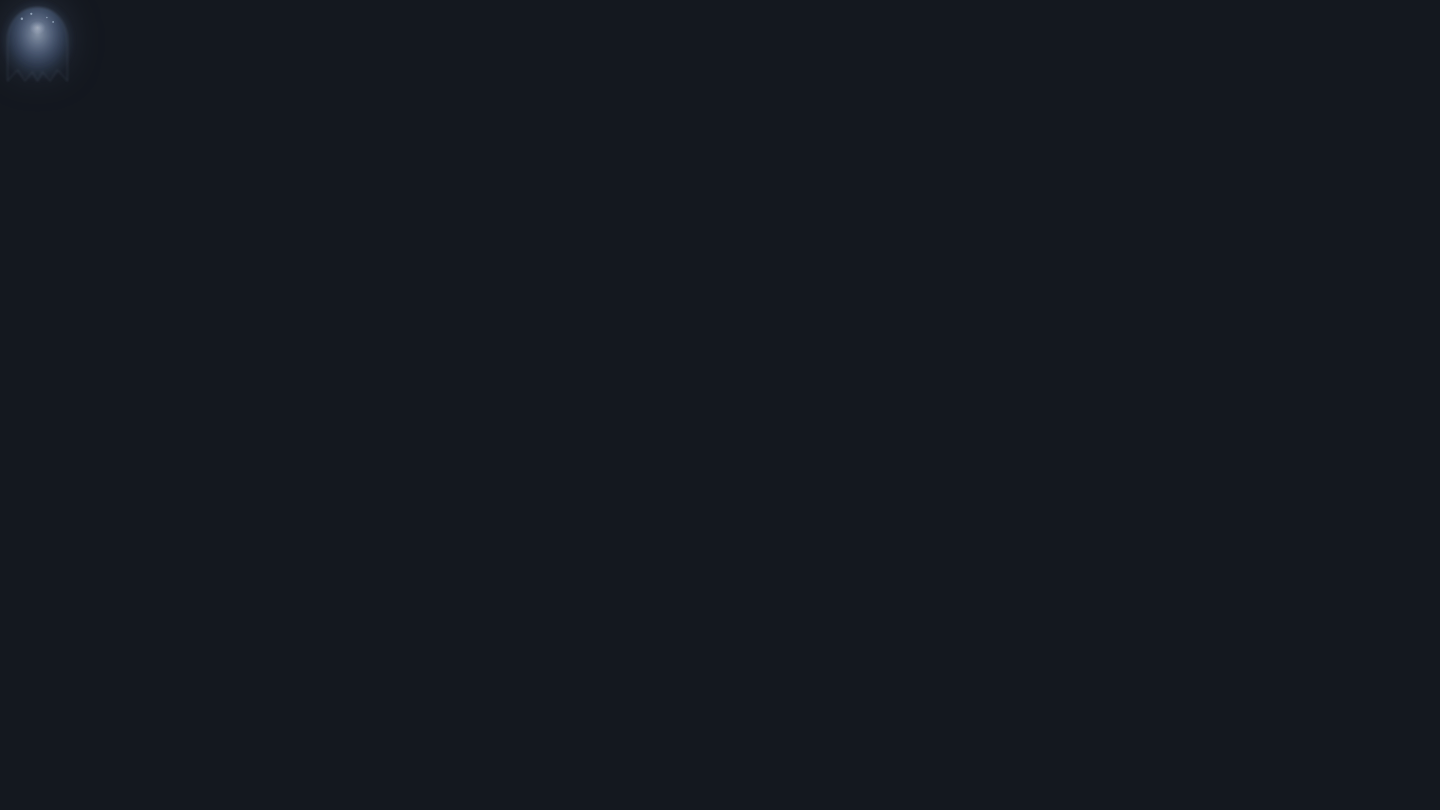
Test: GhostChatbot › opens the chat drawer without crashing
Step 1. Click the button named "open chat" → (38, 47), box [0, 0, 75, 94]
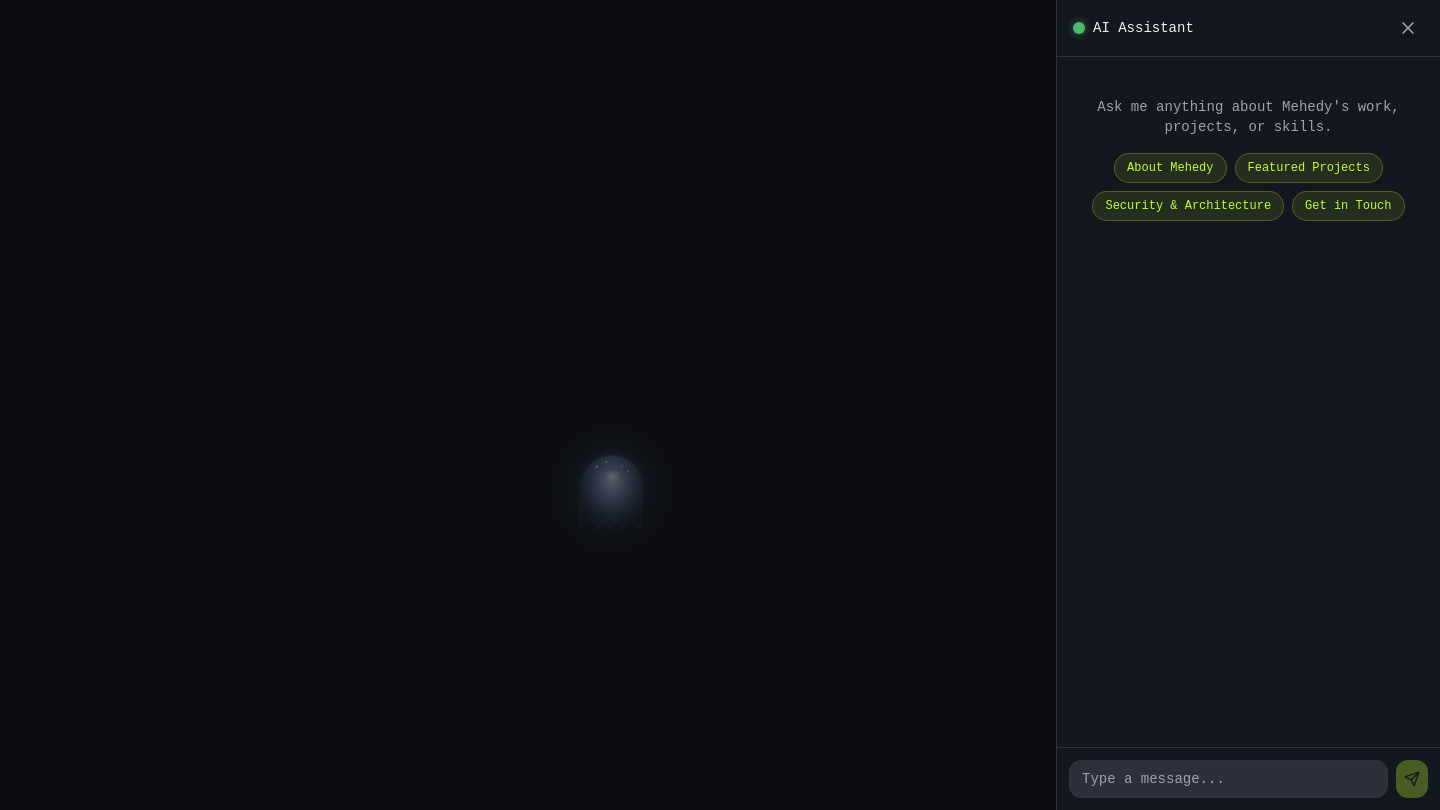
Check: the dialog named "chat with the portfolio assistant" is shown, box [1056, 0, 1439, 809]
Check: the text "AI Assistant" is shown, box [1093, 18, 1194, 38]
